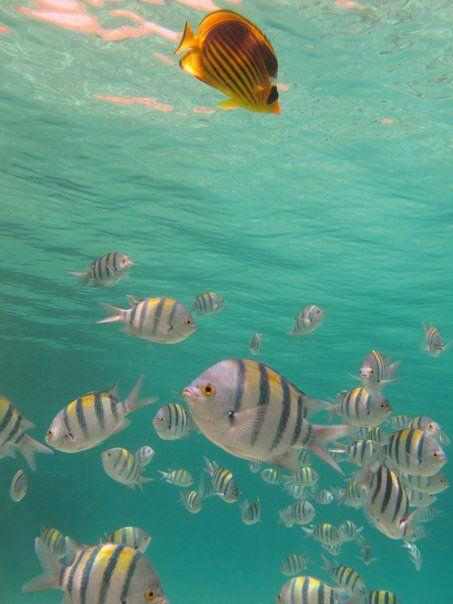fish: (183, 359, 350, 472), (176, 10, 282, 117), (46, 369, 159, 455), (24, 541, 169, 604), (359, 471, 423, 538), (102, 299, 195, 343), (0, 390, 51, 469), (379, 431, 446, 474), (103, 445, 154, 493), (72, 252, 134, 290), (200, 459, 243, 506), (276, 576, 344, 604), (357, 350, 401, 388), (292, 300, 323, 339), (194, 291, 226, 314), (424, 330, 446, 359), (11, 472, 28, 502), (249, 332, 262, 353)
